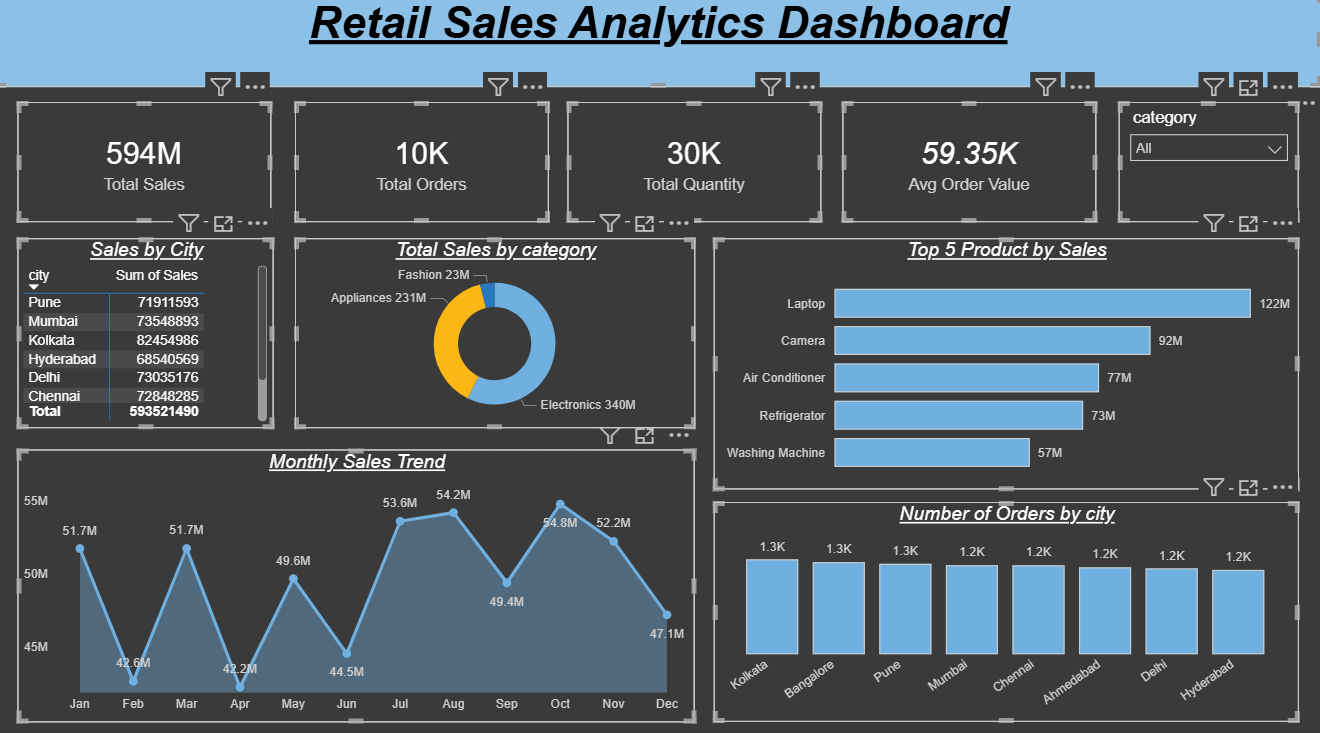

The dashboard page shown, as its layout file describes it:
{"tool":"powerbi","page":{"name":"Retail Sales Analytics Dashboard","canvas":[1280,720],"ordinal":0},"visuals":[{"type":"textbox","box":[0,0,1280.3,91.9],"z":0},{"type":"slicer","fields":{"Values":["retail_sales.category"]},"box":[1084.6,106.2,173.7,115.8],"z":1000},{"type":"card","fields":{"Values":["retail_sales.Total Sales"]},"box":[21.7,106.2,245,115.8],"z":2000},{"type":"card","fields":{"Values":["retail_sales.Total Orders"]},"box":[289.5,106.2,244.9,115.8],"z":3000},{"type":"card","fields":{"Values":["retail_sales.Total Quantity"]},"box":[552.5,106.2,244.9,115.8],"z":4000},{"type":"lineChart","title":"Monthly Sales Trend","fields":{"Category":["retail_sales.Month"],"Y":["retail_sales.Total Sales"]},"box":[21.7,441.6,653.9,263],"z":5000},{"type":"barChart","title":"Top 5 Product by Sales","fields":{"Y":["Sum(retail_sales.Sales)"],"Category":["retail_sales.product"]},"box":[693.7,237.7,564.6,242.5],"z":6000},{"type":"donutChart","fields":{"Category":["retail_sales.category"],"Y":["retail_sales.Total Sales"]},"box":[289.5,237.7,386.1,183.4],"z":7000},{"type":"card","fields":{"Values":["retail_sales.Avg Order Value"]},"box":[818,106.2,244.9,115.8],"z":8000},{"type":"pivotTable","title":"Sales by City","fields":{"Rows":["retail_sales.city"],"Values":["Sum(retail_sales.Sales)"]},"box":[21.7,237.7,247.3,183.4],"z":9000},{"type":"columnChart","title":"Number of Orders by city","fields":{"Category":["retail_sales.city"],"Y":["CountNonNull(retail_sales.order_id)"]},"box":[693.7,492.2,564.6,212.3],"z":10000}]}

Visuals, with their boxes in screenshot pixels (x1, y1, x2, y2), scaled from the page's 1280x720 canvas onto the 1320x733 screenshot:
textbox: pyautogui.locateOnScreen(0, 0, 1319, 94)
slicer - retail_sales.category: pyautogui.locateOnScreen(1118, 108, 1298, 226)
card - retail_sales.Total Sales: pyautogui.locateOnScreen(22, 108, 275, 226)
card - retail_sales.Total Orders: pyautogui.locateOnScreen(299, 108, 551, 226)
card - retail_sales.Total Quantity: pyautogui.locateOnScreen(570, 108, 822, 226)
"Monthly Sales Trend" lineChart: pyautogui.locateOnScreen(22, 450, 697, 717)
"Top 5 Product by Sales" barChart: pyautogui.locateOnScreen(715, 242, 1298, 489)
donutChart - retail_sales.category x retail_sales.Total Sales: pyautogui.locateOnScreen(299, 242, 697, 429)
card - retail_sales.Avg Order Value: pyautogui.locateOnScreen(844, 108, 1096, 226)
"Sales by City" pivotTable: pyautogui.locateOnScreen(22, 242, 277, 429)
"Number of Orders by city" columnChart: pyautogui.locateOnScreen(715, 501, 1298, 717)
